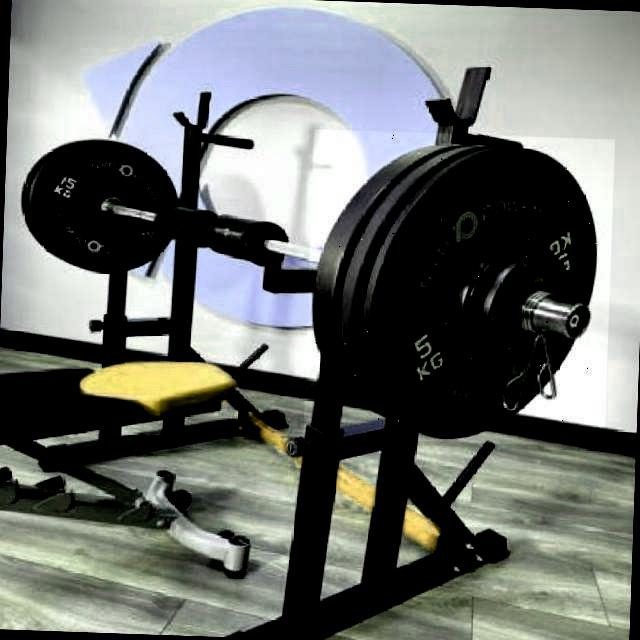barbell: (303, 130, 615, 447)
